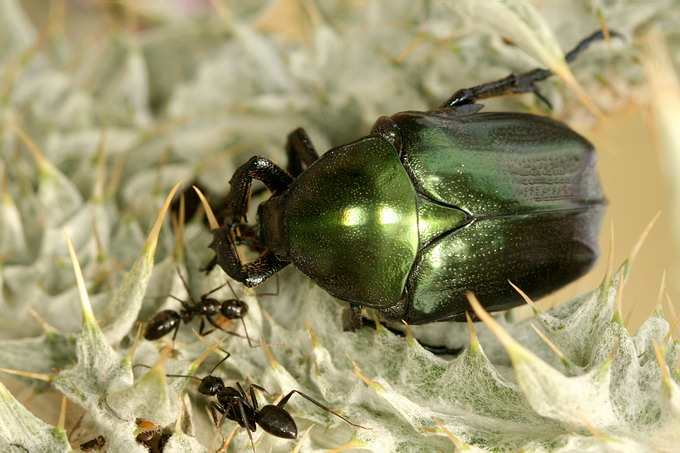Protaetia_angustata_angustata: (202, 17, 634, 361)
